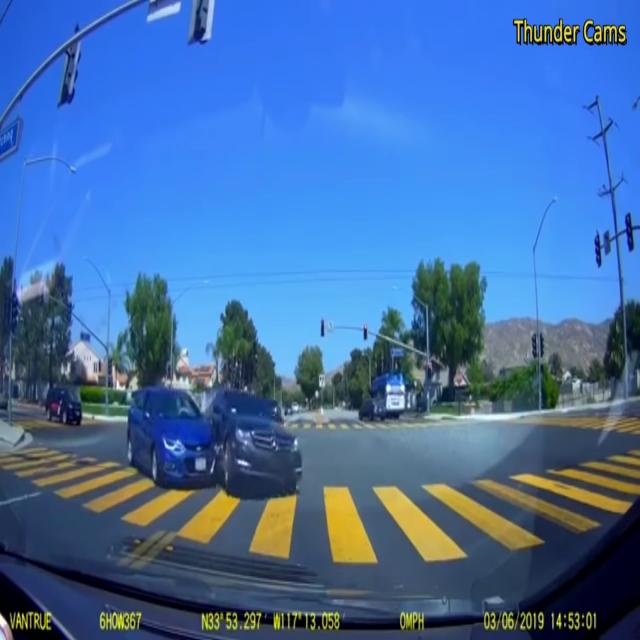accident: (121, 382, 312, 515)
